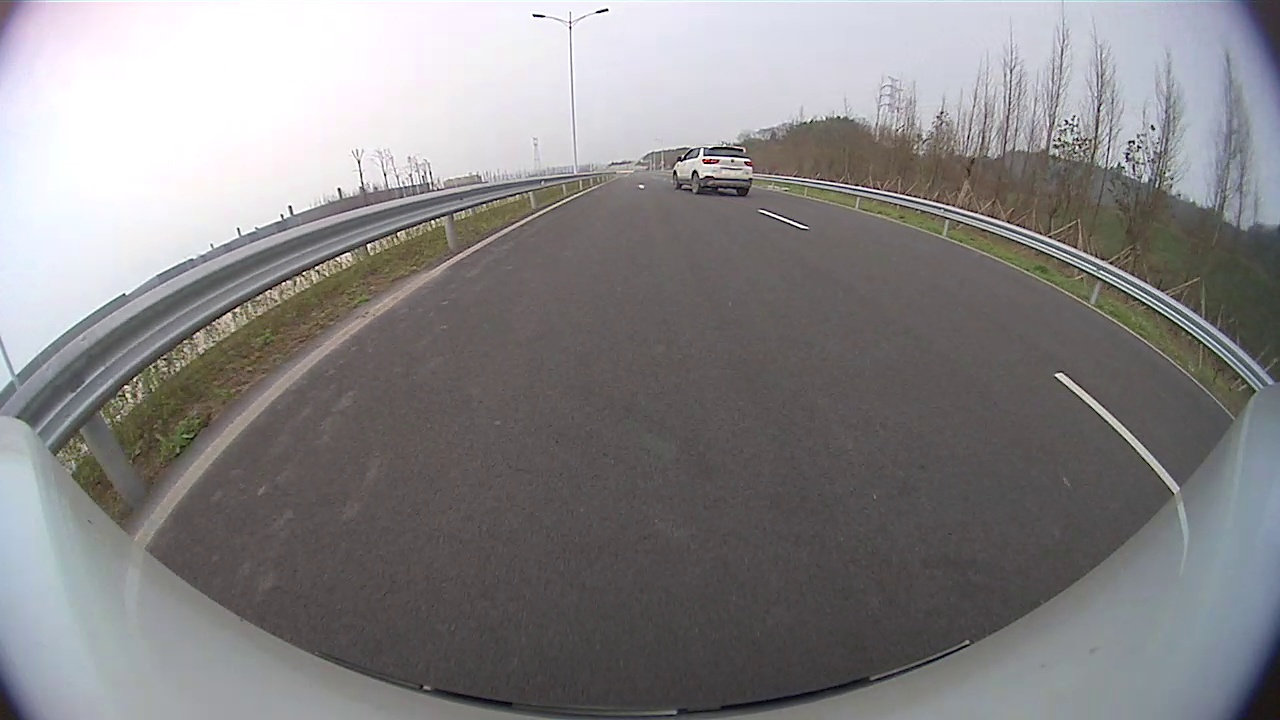car: (672, 144, 753, 196)
rear: (690, 174, 702, 194)
